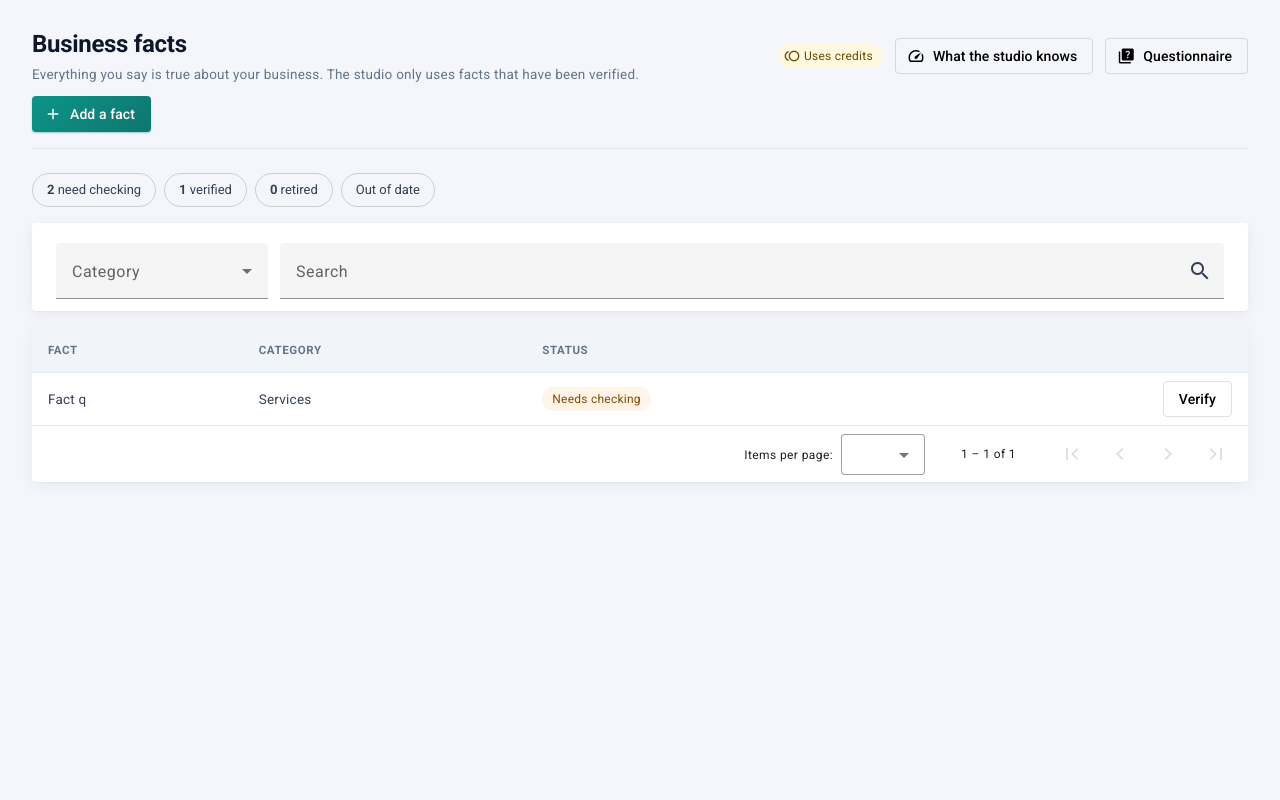
it: StudioFactsComponent › keeps a questionnaire fact read-only and points to the questionnaire
Click the row with class "fact-row" at (640, 399), box [32,373,1248,425]
(page scrolled)
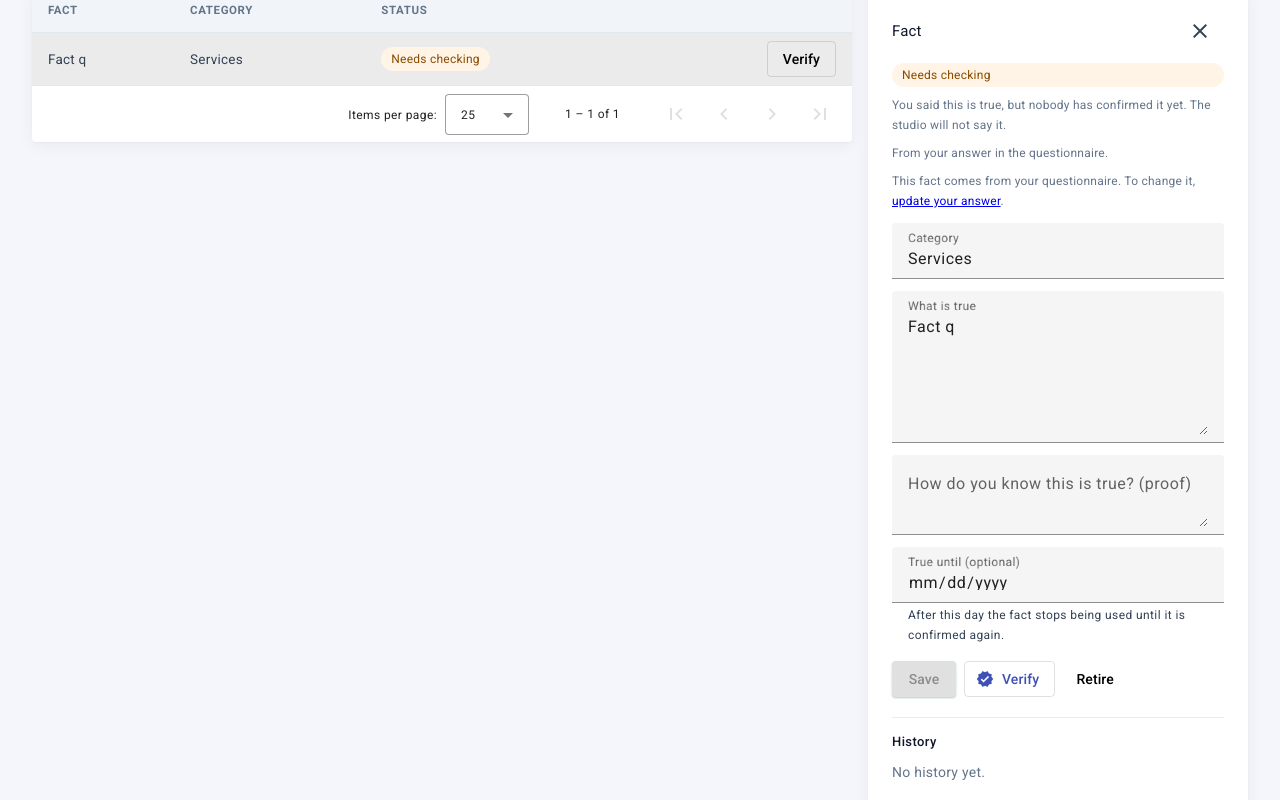
Now the element with class "detail-card" shows "update your answer", box [892,194,1001,208]
